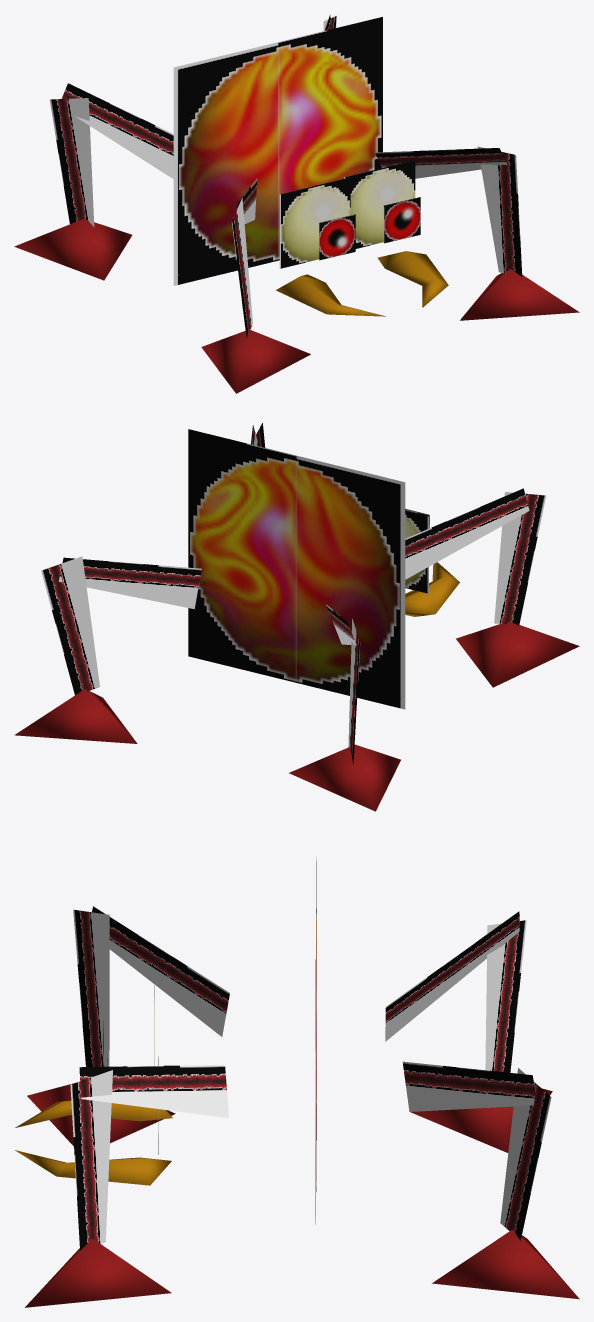
Rendered from scuttlebug.glb.
3 views of the same model, one above another, from view 1: azimuth 30°, elevation 25°; view 2: azimuth 150°, elevation 25°; view 3: azimuth 270°, elevation 25° (orthographic). The views are drawn at different scales.
Visible parts, largest first — view 1: scuttlebug; view 2: scuttlebug; view 3: scuttlebug.
Part boxes in pixels (box(x1,y1,x2,y2)): scuttlebug: box(14, 15, 579, 393); scuttlebug: box(14, 423, 579, 811); scuttlebug: box(15, 856, 579, 1307).
Bounding box in the file's own units: 3.75 × 2.35 × 4.11.
14 materials, 14 textured.
